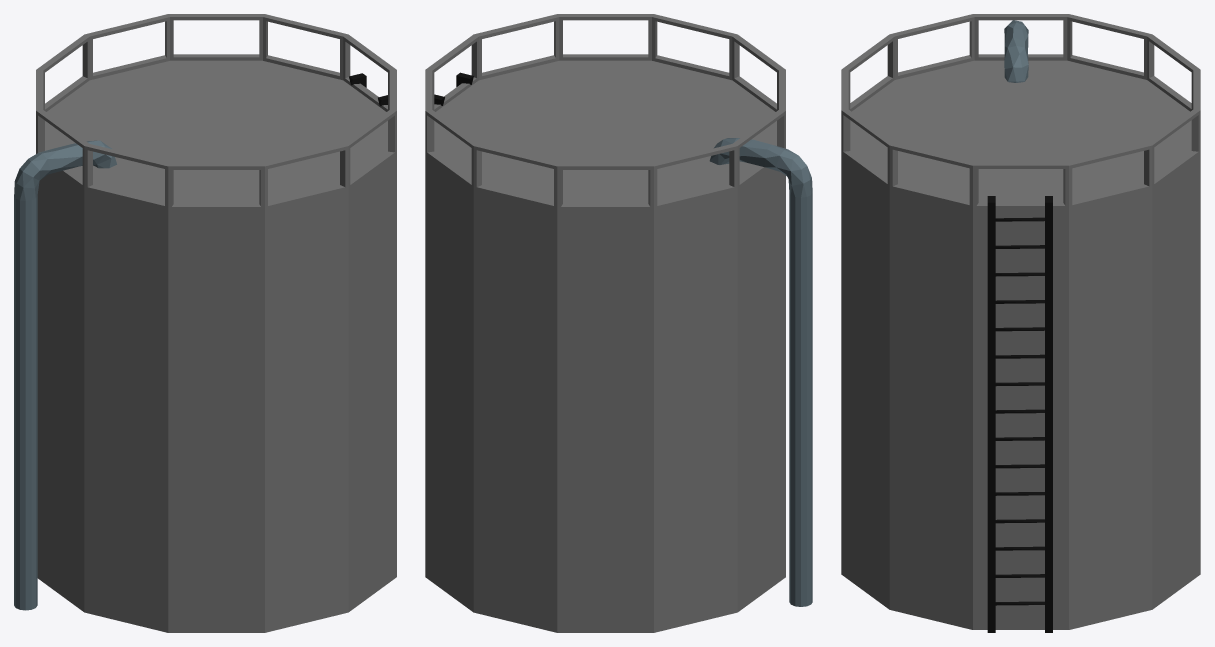
Rendered from SM_Factory_Tank_02.glb.
The picture shows the model from 3 angles, left to right: view 1: azimuth 30°, elevation 25°; view 2: azimuth 150°, elevation 25°; view 3: azimuth 270°, elevation 25°; orthographic projection.
Parts seen in each view (by area): view 1: SM_Factory_Tank_02; view 2: SM_Factory_Tank_02; view 3: SM_Factory_Tank_02.
Part boxes in pixels (bbox=[...]): SM_Factory_Tank_02: bbox=[14, 14, 396, 632]; SM_Factory_Tank_02: bbox=[425, 14, 812, 632]; SM_Factory_Tank_02: bbox=[841, 14, 1200, 632].
Bounding box in the file's own units: 5.43 × 6.62 × 4.64.
1 material, 1 textured.
